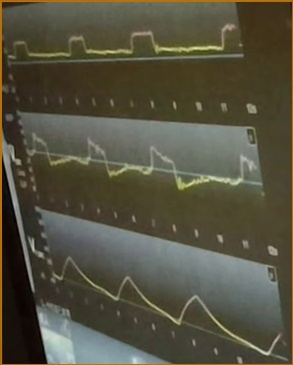Accumulation Flow: (28, 126, 257, 194)
Volume: (52, 255, 284, 355)
